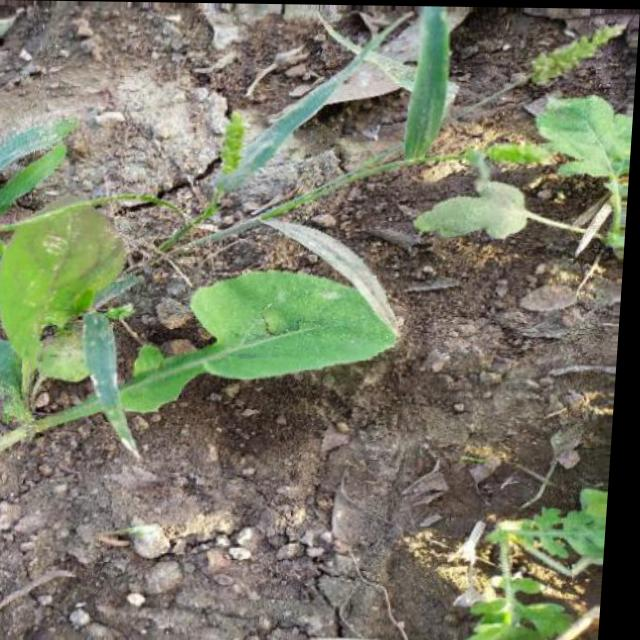weed: (0, 132, 421, 525), (429, 61, 633, 307), (424, 449, 611, 640)
